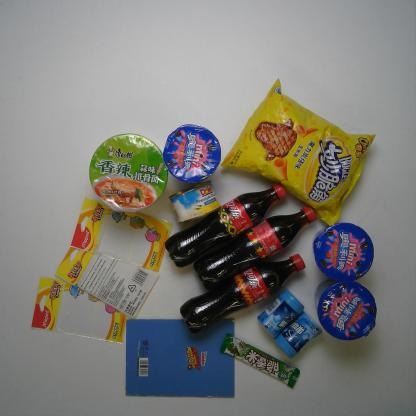Canned Food: (168, 180, 222, 224)
Chocolate: (220, 332, 300, 390)
Dessert: (314, 279, 378, 342), (312, 222, 374, 283), (162, 124, 222, 184)
Drink: (193, 205, 317, 290), (165, 182, 287, 268), (180, 254, 307, 333)
Gum: (274, 311, 323, 360), (257, 289, 305, 339)
Instant Noodles: (89, 132, 168, 212)
Puffed Food: (220, 77, 376, 227)
Stationery: (125, 319, 235, 399), (55, 239, 160, 320), (71, 198, 173, 272), (30, 276, 127, 344)
